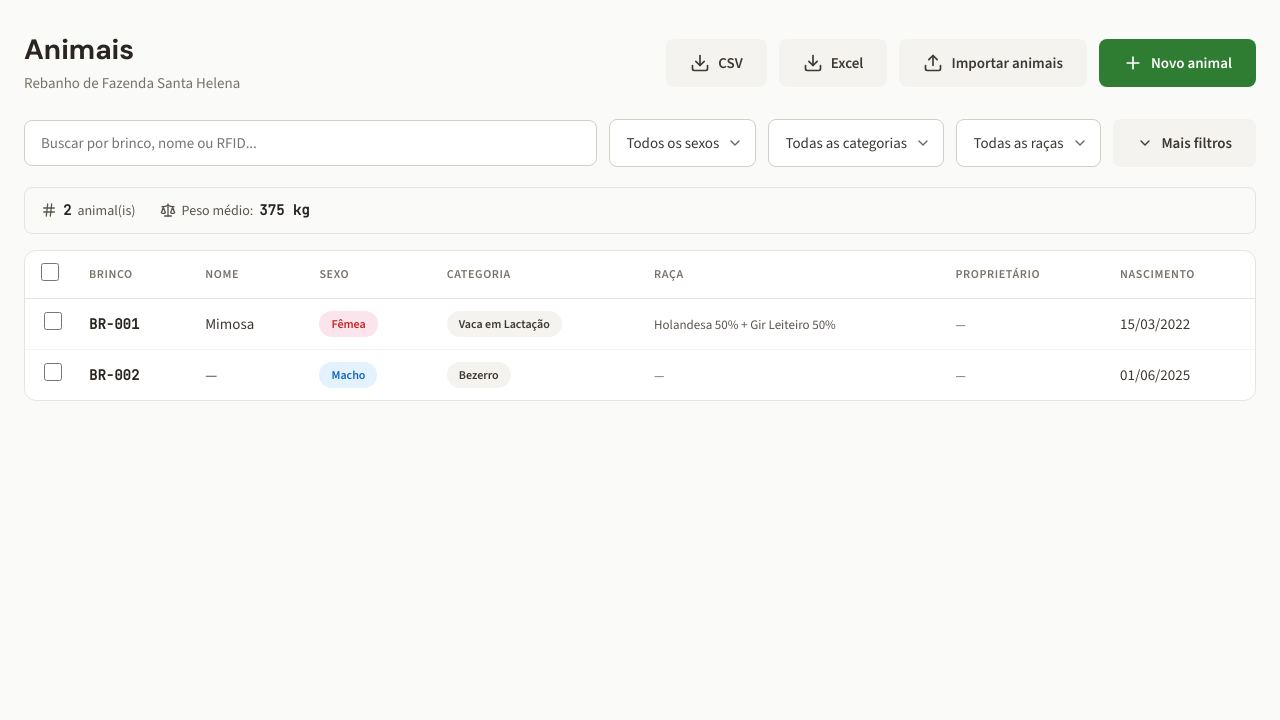
Test: AnimalsPage › should show filter count badge when advanced filters are active
The image size is (1280, 720).
Click the button "Mais filtros" at (1185, 143), box left=1113, top=119, right=1256, bottom=167
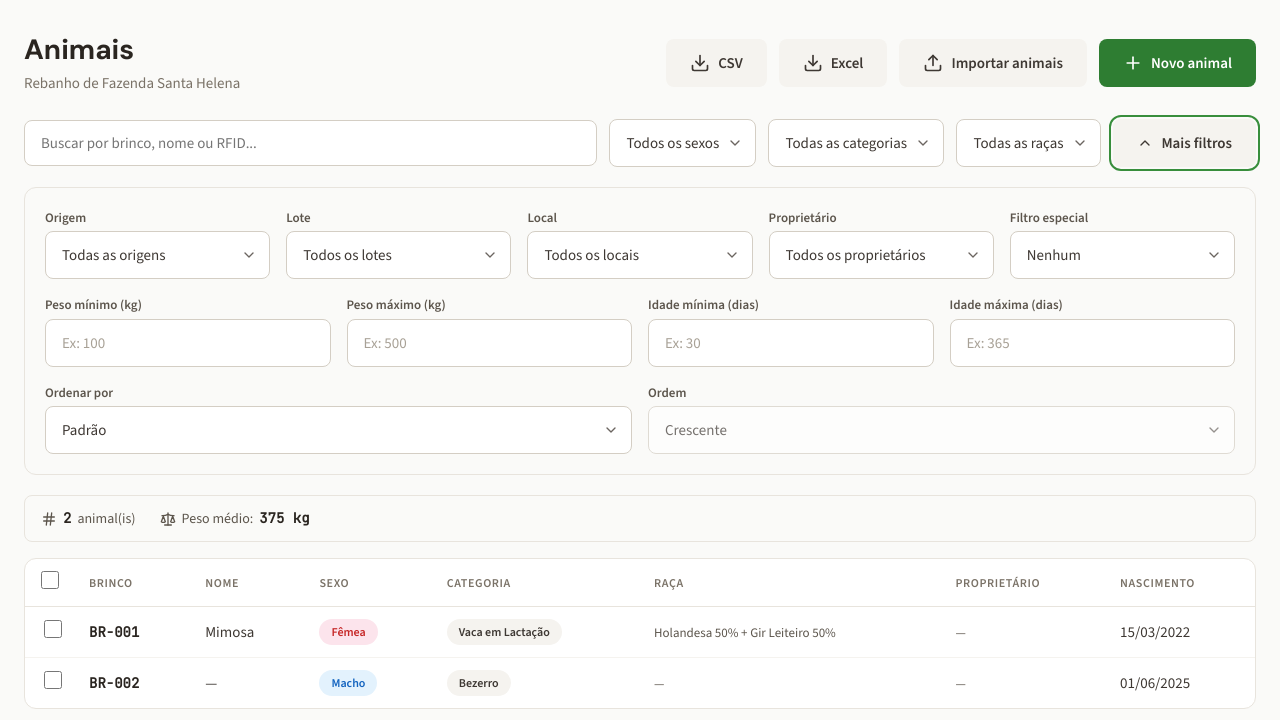
Select "Comprado" in the dropdown labelled "Origem" at (158, 255), box left=45, top=231, right=270, bottom=279
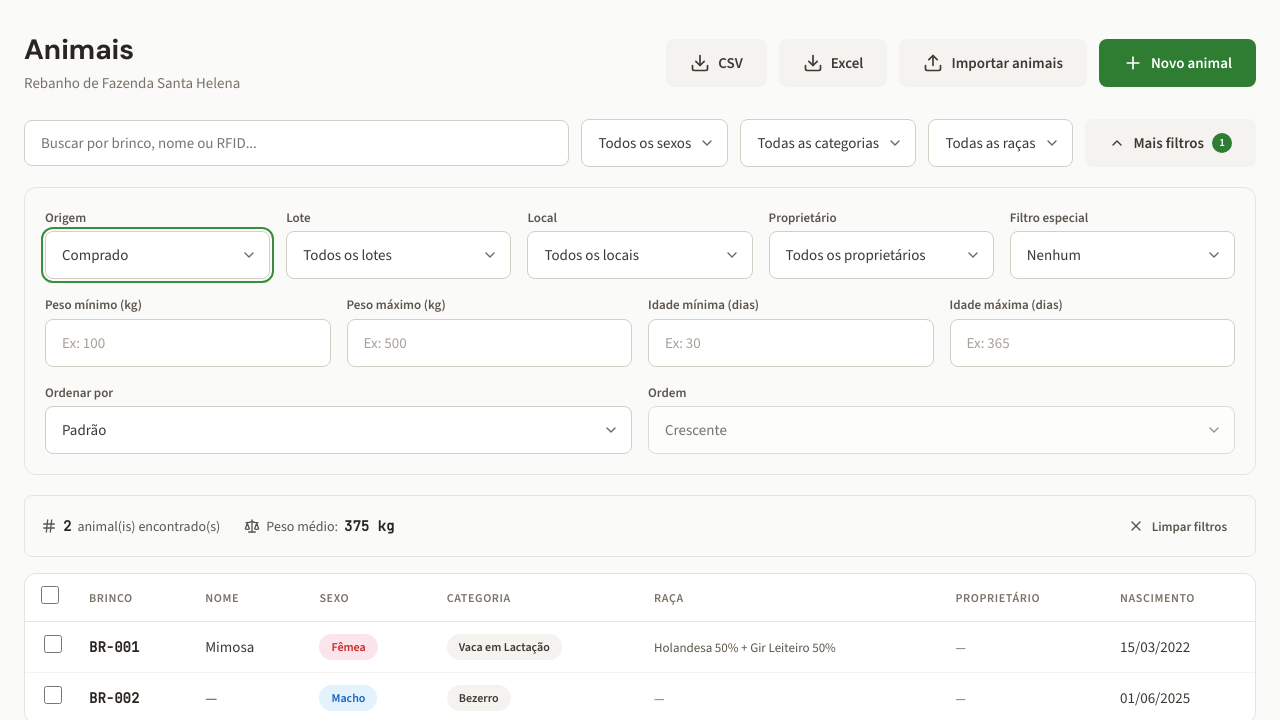
Expected: the text "1" is shown, left=1212, top=133, right=1232, bottom=153
